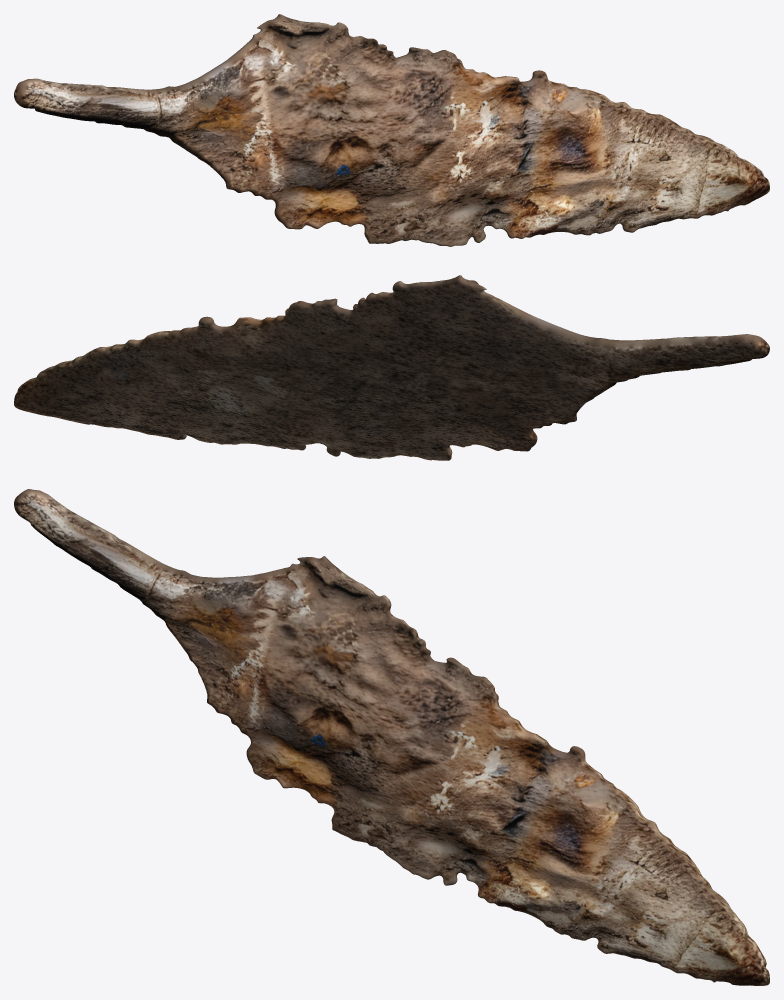
The model's file is 029-kremnevyy-nakonechnik.glb.
3 renders of one model, top to bottom at view 1: azimuth 30°, elevation 25°; view 2: azimuth 150°, elevation 25°; view 3: azimuth 330°, elevation 25°, orthographic. The views are drawn at different scales.
Parts seen in each view (by area): view 1: node_0; view 2: node_0; view 3: node_0.
Boxes of the visible parts, x1=… form: node_0: x1=14, y1=14, x2=769, y2=246; node_0: x1=14, y1=275, x2=769, y2=460; node_0: x1=14, y1=489, x2=769, y2=985.
Size of the model in its own units: 1.13 by 0.3984 by 0.1319.
1 material, 1 textured.
